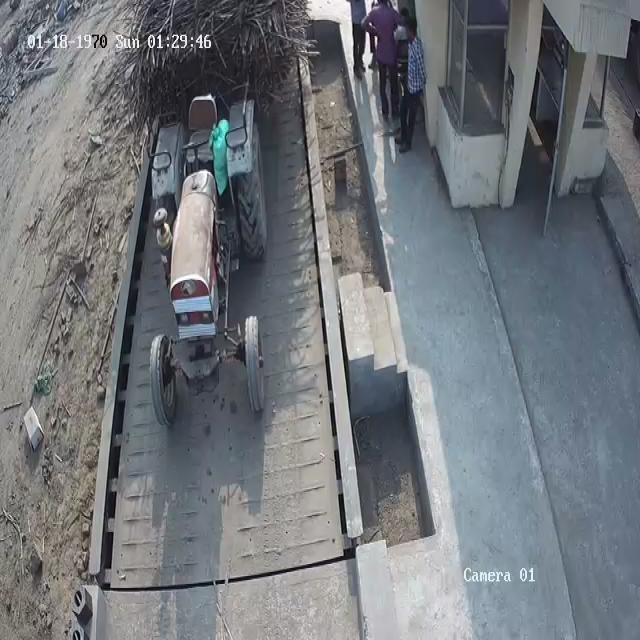Tratores - v5 YOLO V8L 2024-11-13: (146, 112, 277, 428)
